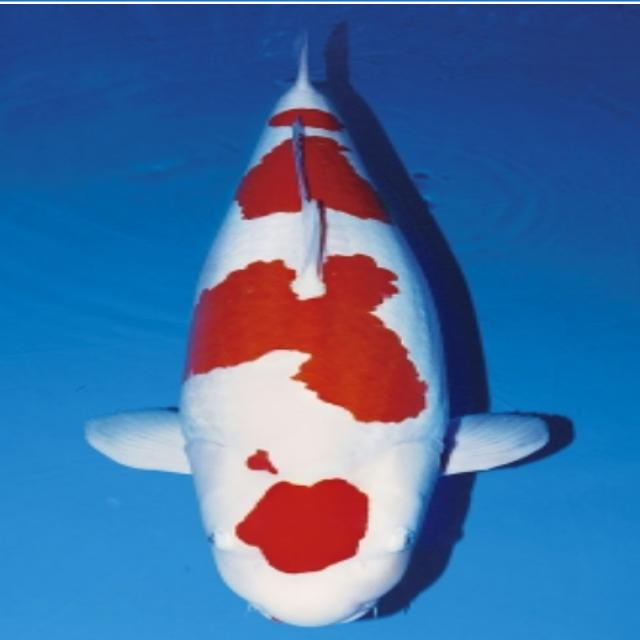Kohaku: (82, 20, 568, 628)
